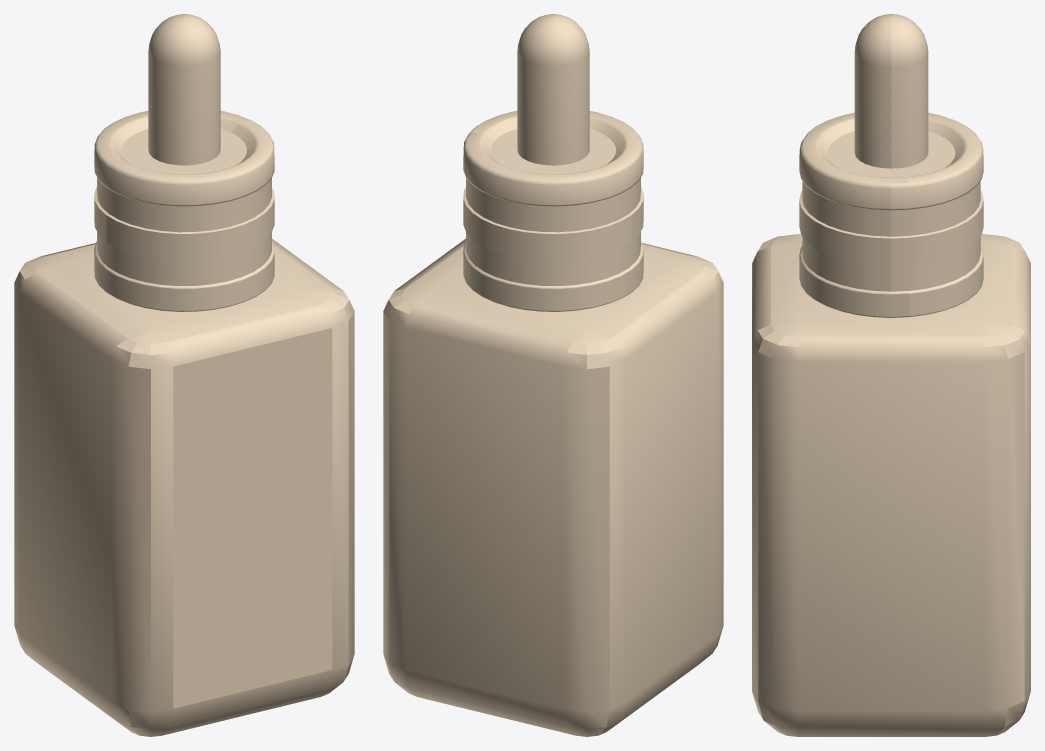
File: bottle.gltf
3 renders of one model, left to right at view 1: azimuth 30°, elevation 25°; view 2: azimuth 150°, elevation 25°; view 3: azimuth 270°, elevation 25°, orthographic. The views are drawn at different scales.
Visible parts, largest first — view 1: Bottle; view 2: Bottle; view 3: Bottle.
Boxes of the visible parts, x1,y1,x2,y2 form: Bottle: (14, 14, 354, 736); Bottle: (383, 14, 723, 736); Bottle: (752, 14, 1030, 736).
Bounding box in the file's own units: 0.6265 × 1.68 × 0.6265.
